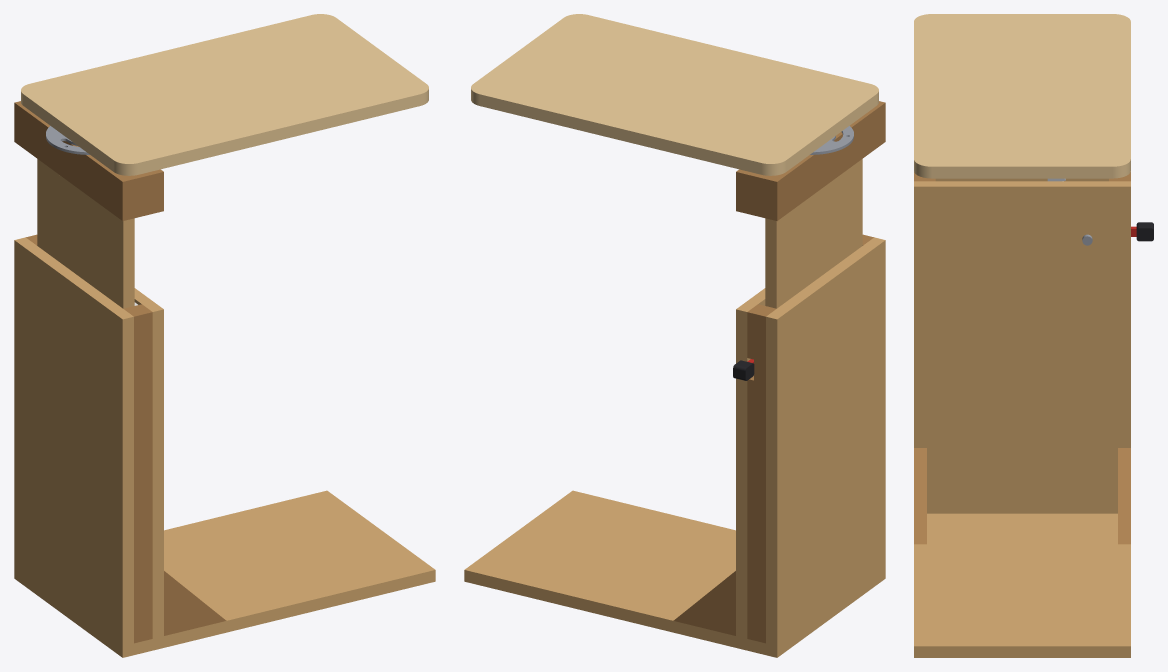
Rendered from assembly_high.glb.
The picture shows the model from 3 angles, left to right: view 1: azimuth 30°, elevation 25°; view 2: azimuth 150°, elevation 25°; view 3: azimuth 270°, elevation 25°; orthographic projection.
Visible parts, largest first — view 1: stand_board_A, tabletop, base, mast, spacer_left, swivel_block, stand_board_B, gusset_left; view 2: stand_board_A, tabletop, base, mast, spacer_right, swivel_block, stand_board_B, gusset_right; view 3: stand_board_B, tabletop, base, gusset_left, gusset_right, mast.
Boxes of the visible parts, x1,y1,x2,y2 form: stand_board_A: (14, 237, 133, 645); tabletop: (21, 14, 428, 175); base: (14, 490, 435, 657); mast: (37, 159, 134, 308); spacer_left: (123, 304, 152, 643); swivel_block: (14, 101, 163, 220); stand_board_B: (134, 288, 163, 638); gusset_left: (164, 571, 226, 635); stand_board_A: (766, 237, 885, 645); tabletop: (471, 14, 878, 175); base: (464, 490, 885, 657); mast: (765, 159, 862, 308); spacer_right: (747, 304, 776, 643); swivel_block: (736, 101, 885, 220); stand_board_B: (736, 288, 765, 638); gusset_right: (673, 571, 735, 635); stand_board_B: (914, 181, 1130, 513); tabletop: (914, 14, 1130, 178); base: (914, 513, 1130, 657); gusset_left: (914, 448, 926, 544); gusset_right: (1118, 448, 1130, 544); mast: (936, 178, 1108, 181).
Bounding box in the file's own units: 527 × 750 × 332.
